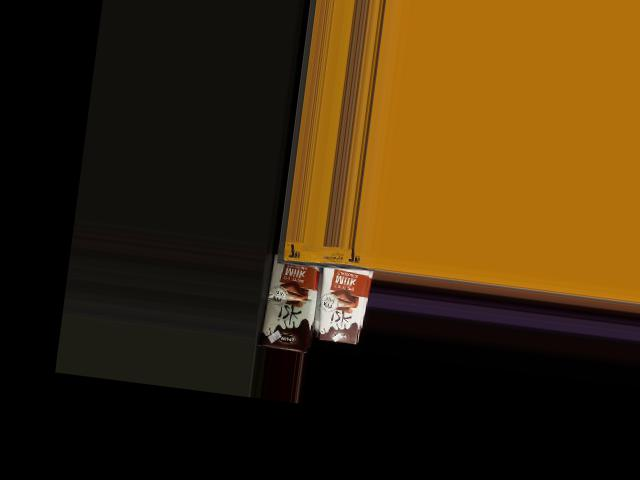chocolate: (314, 255, 378, 348)
